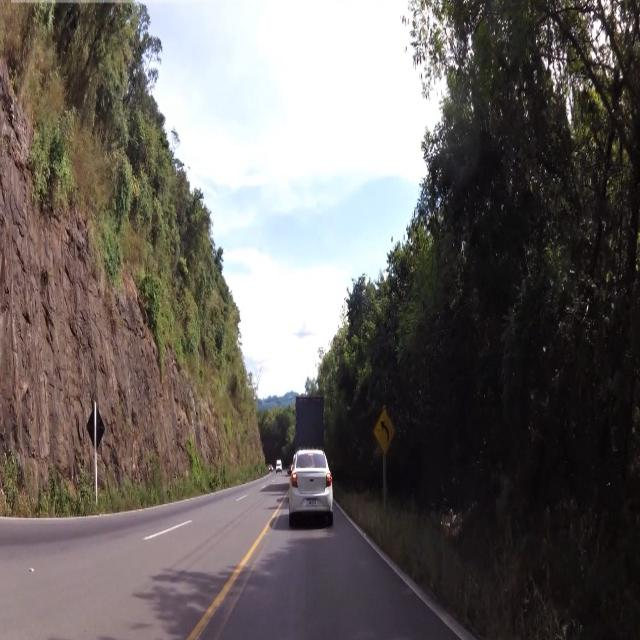A-2a: (371, 405, 396, 456)
